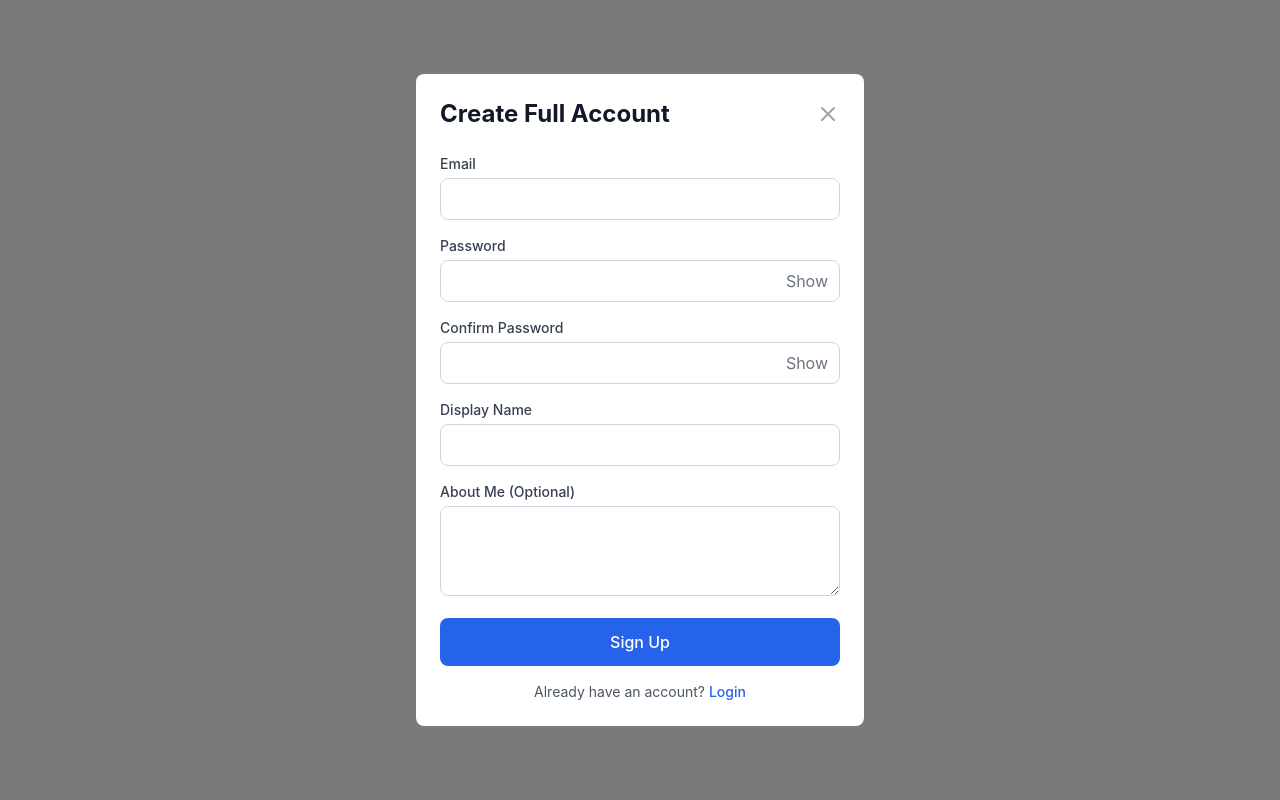
SignupModal - Submission Integration › Error Handling › should display generic error for network failures
// Fill form
Type "test@example.com" into the field labelled "Email" at (640, 199), box [440,178,840,220]
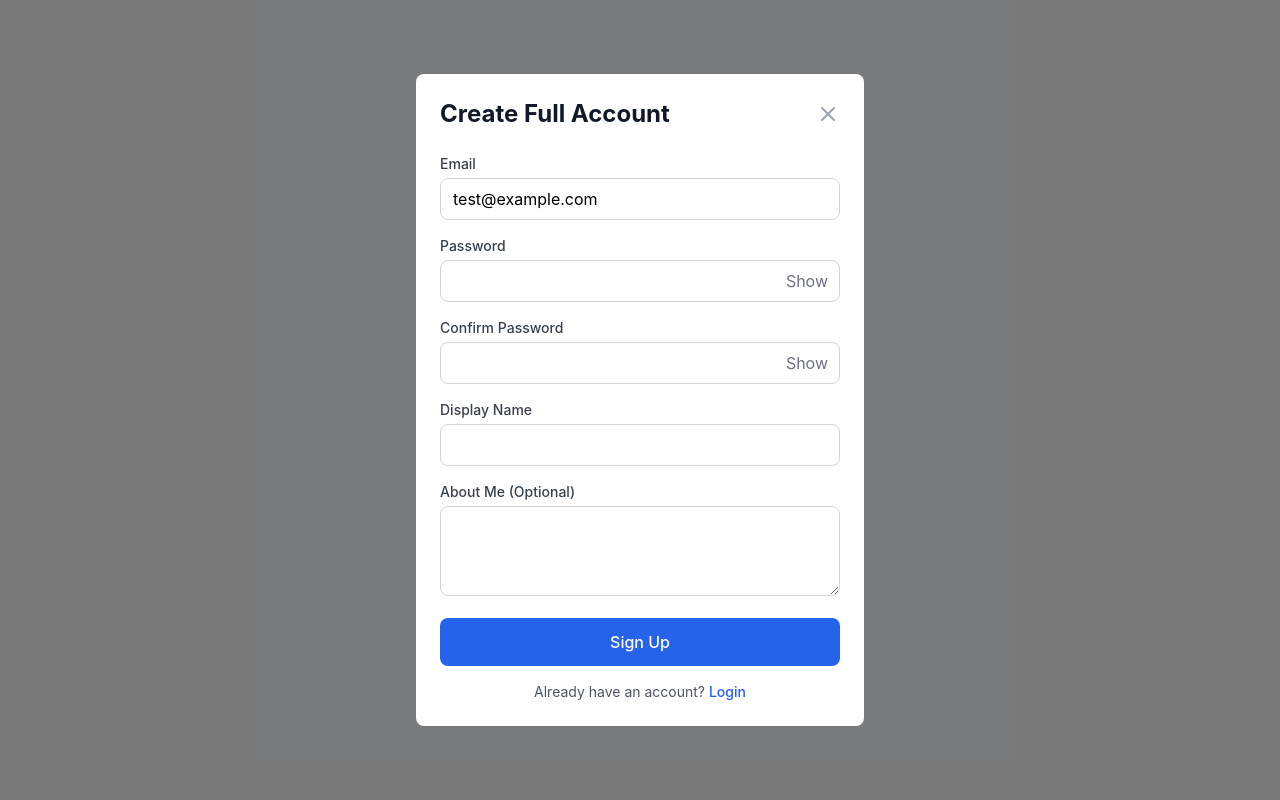
Type "Password123!" into the password field labelled "Password" at (640, 281), box [440,260,840,302]
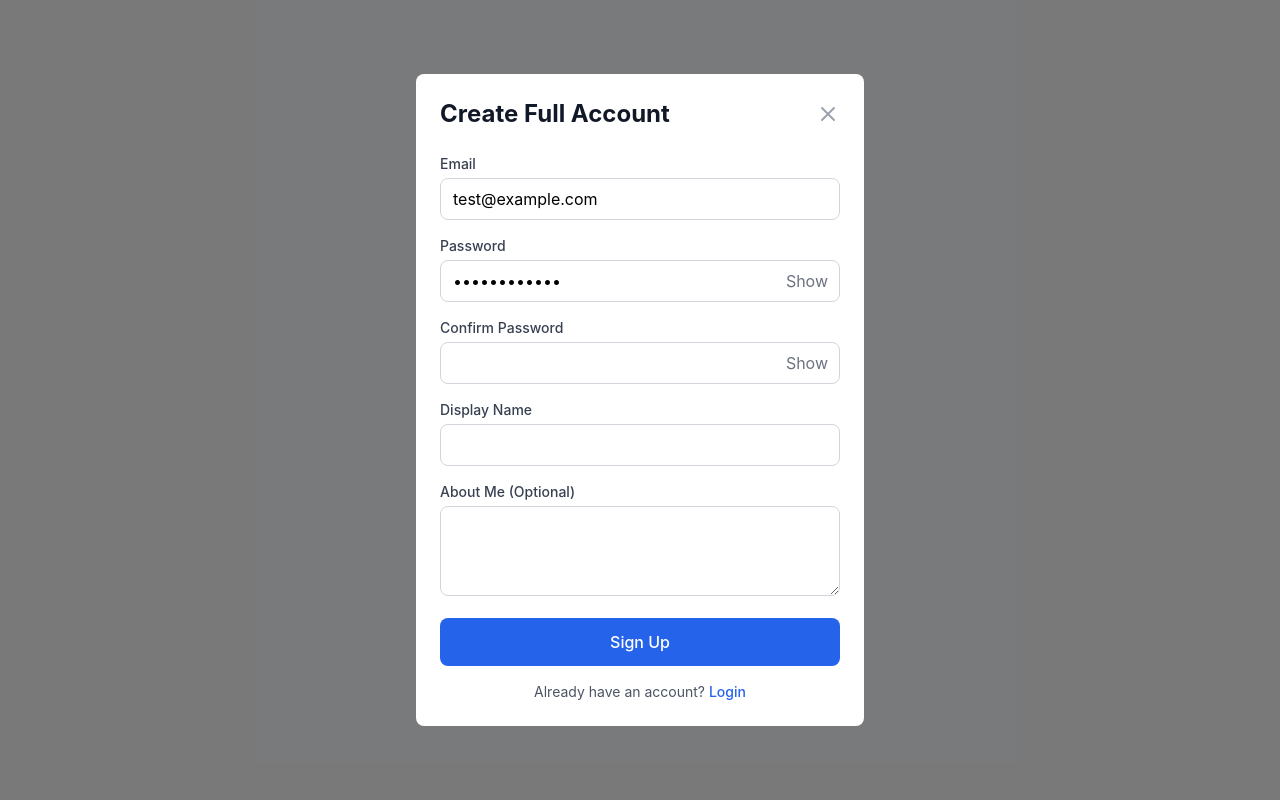
Type "Password123!" into the password field labelled "Confirm Password" at (640, 363), box [440,342,840,384]
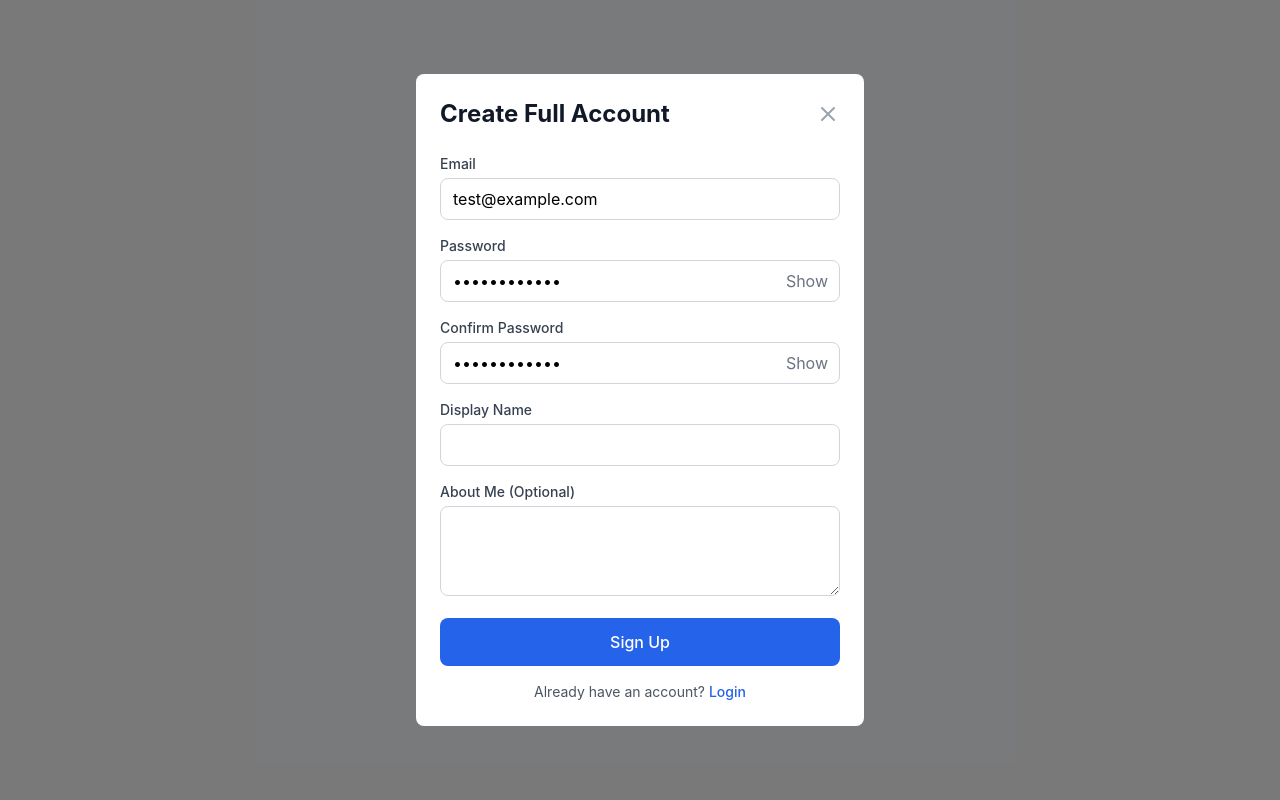
Type "Test User" into the field labelled "Display Name" at (640, 445), box [440,424,840,466]
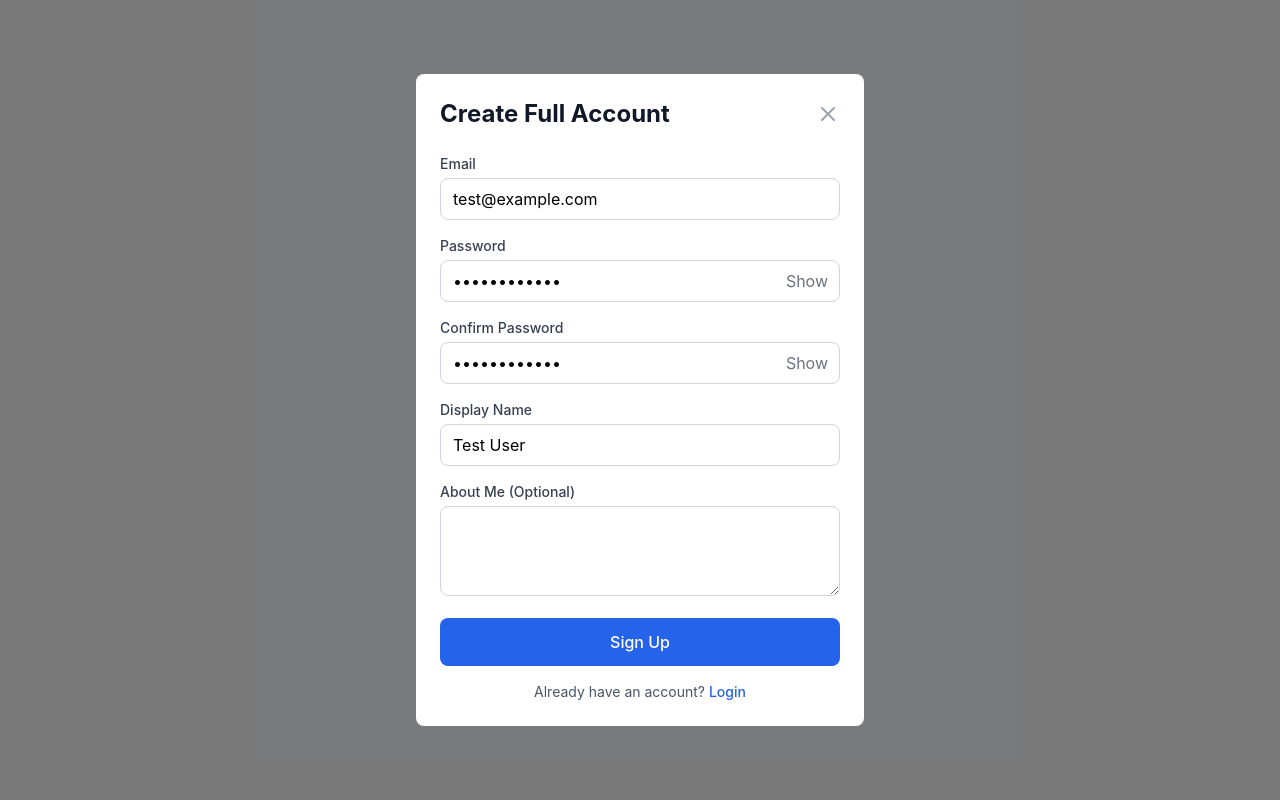
Click the button "Sign Up" at (640, 642), box [440,618,840,666]
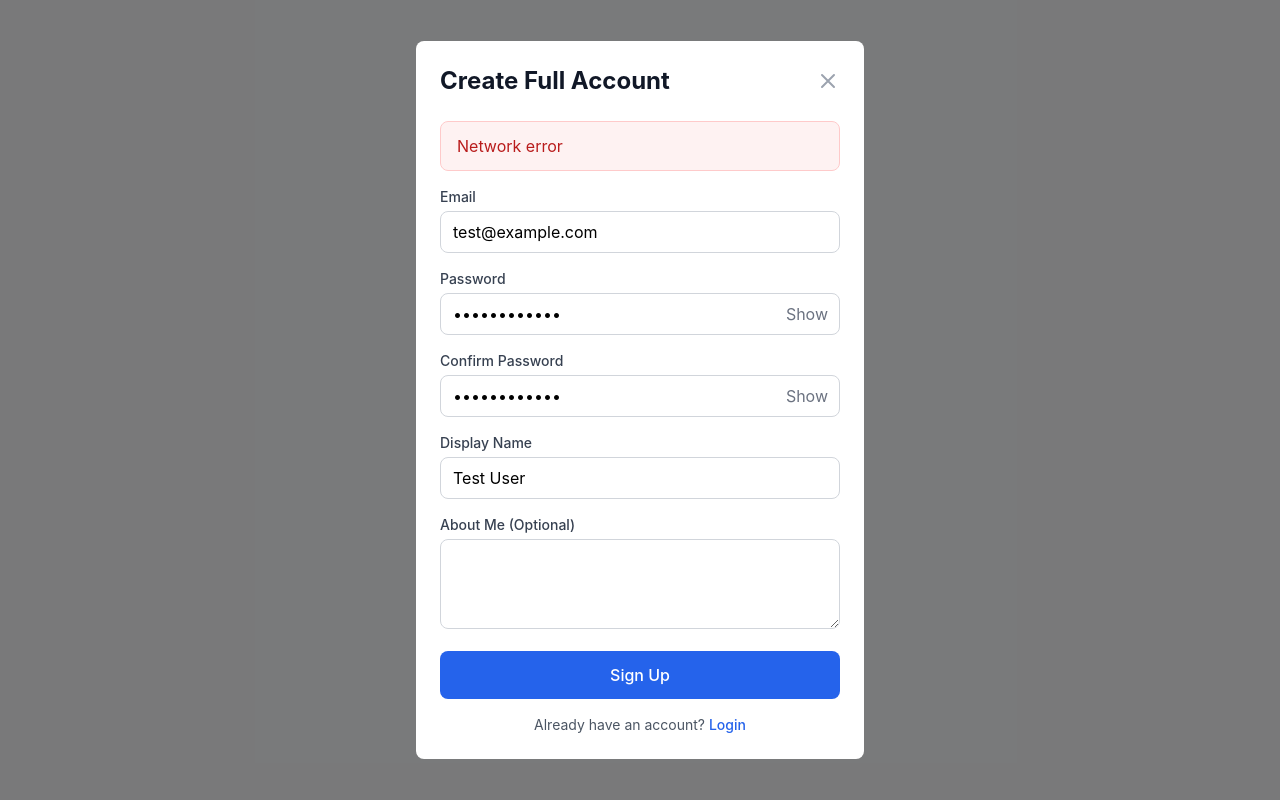
Expected: the text "Network error" is shown, [440,121,840,171]
